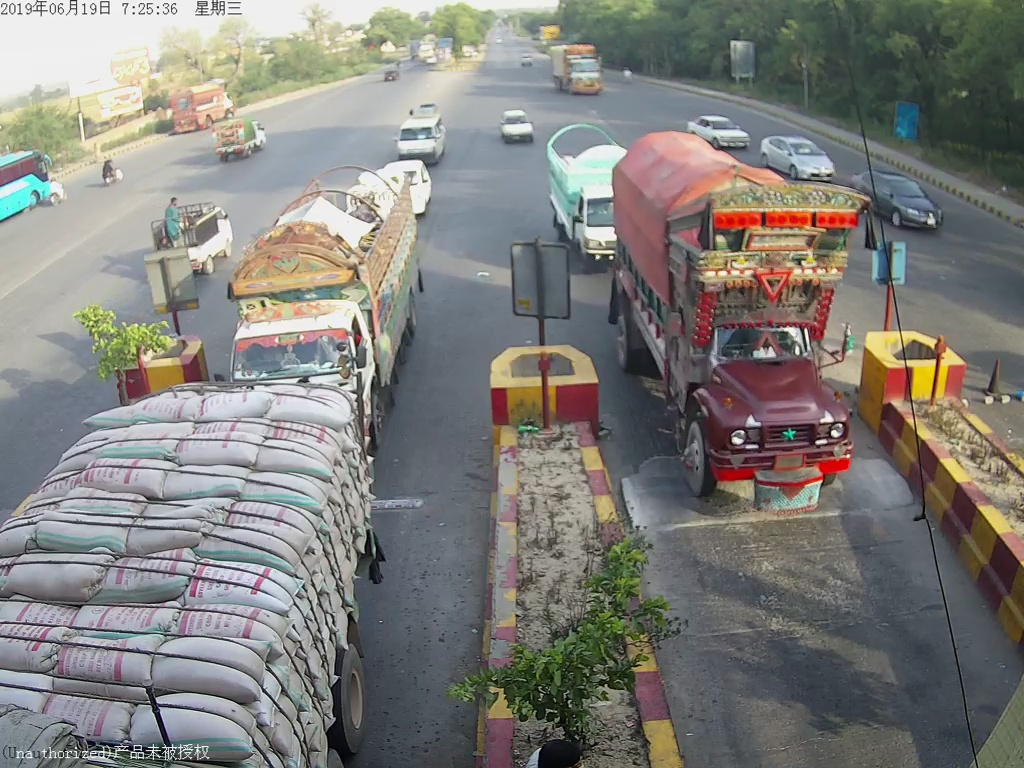Cat-4: (625, 153, 869, 521), (233, 209, 446, 386)
